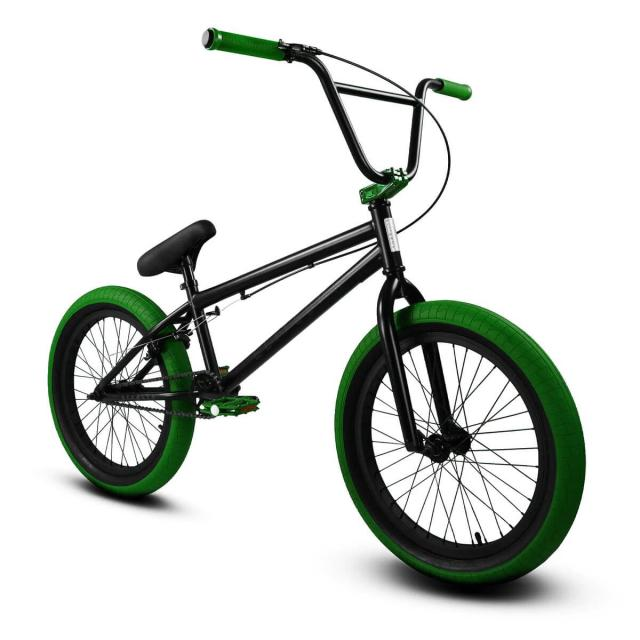bmx-bike: (43, 22, 591, 590)
